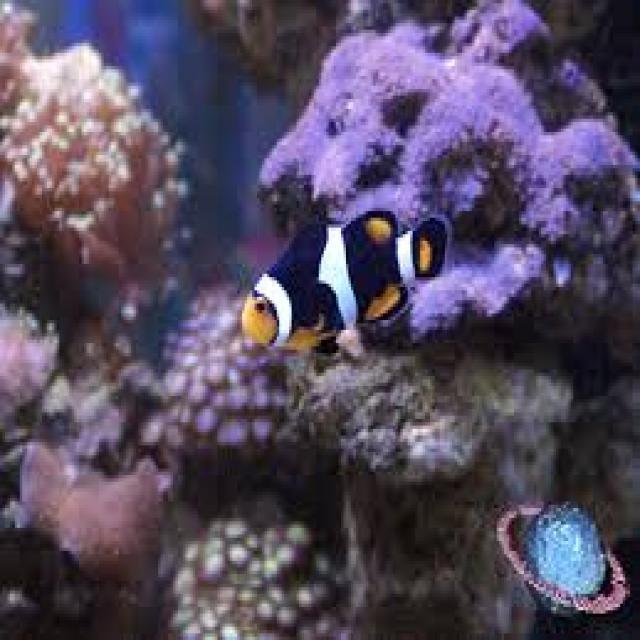ClownFish: (229, 186, 462, 372)
